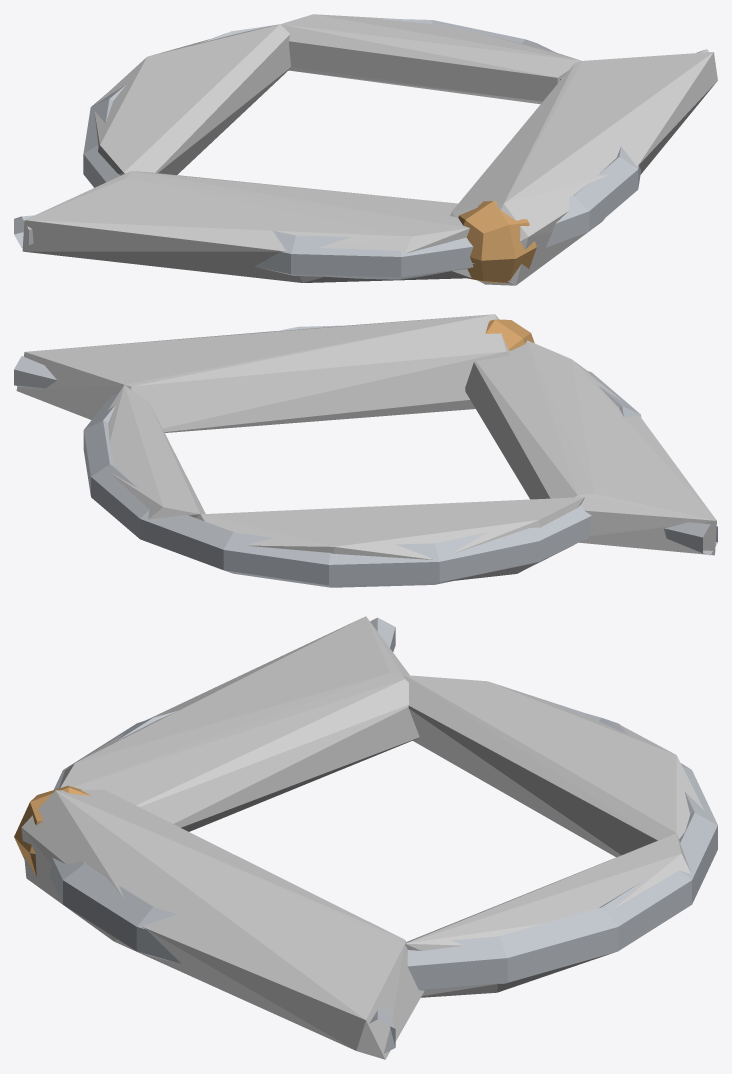
Rendered from SM_Prop_Constellation_Rings_01_Ring_03.fbx.
3 renders of one model, top to bottom at view 1: azimuth 30°, elevation 25°; view 2: azimuth 150°, elevation 25°; view 3: azimuth 270°, elevation 25°, orthographic. The views are drawn at different scales.
Parts seen in each view (by area): view 1: SM_Prop_Constellation_Rings_01_Ring_03_ConvexHulls, SM_Prop_Constellation_Rings_01_Ring_03; view 2: SM_Prop_Constellation_Rings_01_Ring_03_ConvexHulls, SM_Prop_Constellation_Rings_01_Ring_03; view 3: SM_Prop_Constellation_Rings_01_Ring_03_ConvexHulls, SM_Prop_Constellation_Rings_01_Ring_03.
Part boxes in pixels (box(x1,y1,x2,y2)): SM_Prop_Constellation_Rings_01_Ring_03_ConvexHulls: box(22, 14, 717, 285); SM_Prop_Constellation_Rings_01_Ring_03: box(14, 18, 714, 282); SM_Prop_Constellation_Rings_01_Ring_03_ConvexHulls: box(16, 314, 716, 581); SM_Prop_Constellation_Rings_01_Ring_03: box(14, 319, 717, 587); SM_Prop_Constellation_Rings_01_Ring_03_ConvexHulls: box(21, 616, 704, 1059); SM_Prop_Constellation_Rings_01_Ring_03: box(14, 617, 717, 1053).
Size of the model in its own units: 105 by 77.49 by 12.29.
2 materials, 1 textured.
